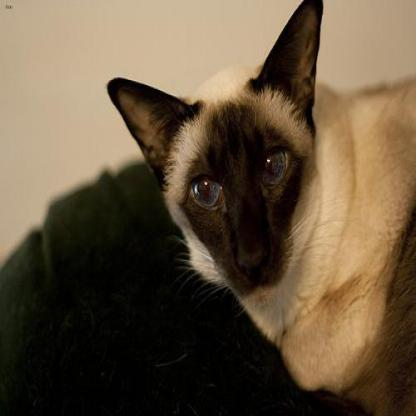cat: (107, 0, 415, 415)
